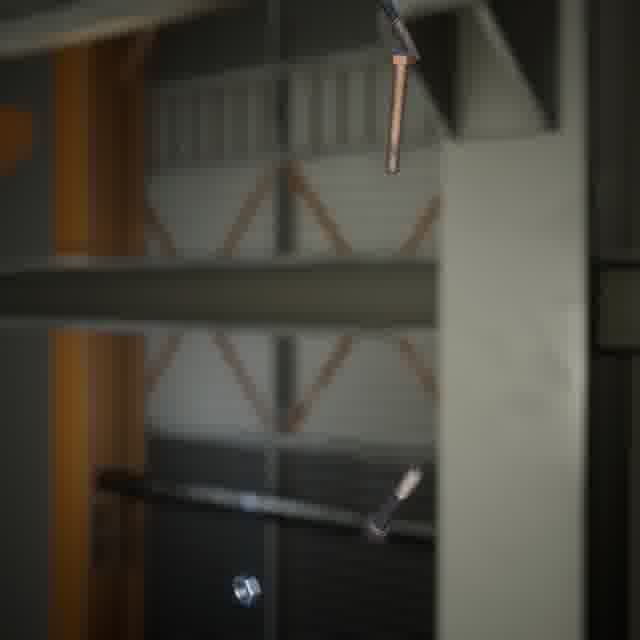bolt: (358, 461, 427, 545), (381, 47, 419, 177), (367, 0, 423, 64)
nut: (227, 569, 265, 610)
